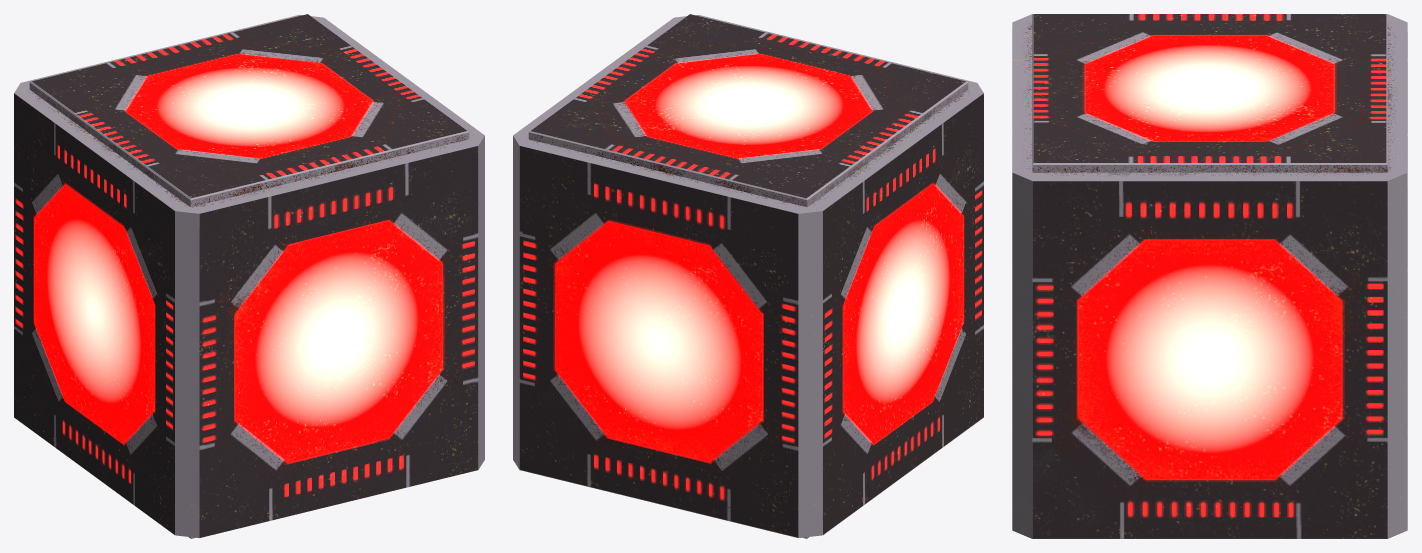
The model's file is Heal Box lp.fbx.
3 views of the same model, side by side, from view 1: azimuth 30°, elevation 25°; view 2: azimuth 150°, elevation 25°; view 3: azimuth 270°, elevation 25° (orthographic). The views are drawn at different scales.
Parts seen in each view (by area): view 1: box_lp; view 2: box_lp; view 3: box_lp.
Boxes of the visible parts, bbox=[...] form: box_lp: bbox=[14, 14, 484, 538]; box_lp: bbox=[513, 14, 983, 538]; box_lp: bbox=[1012, 14, 1407, 538].
Bounding box in the file's own units: 200 × 210 × 200.
1 material, 1 textured.
